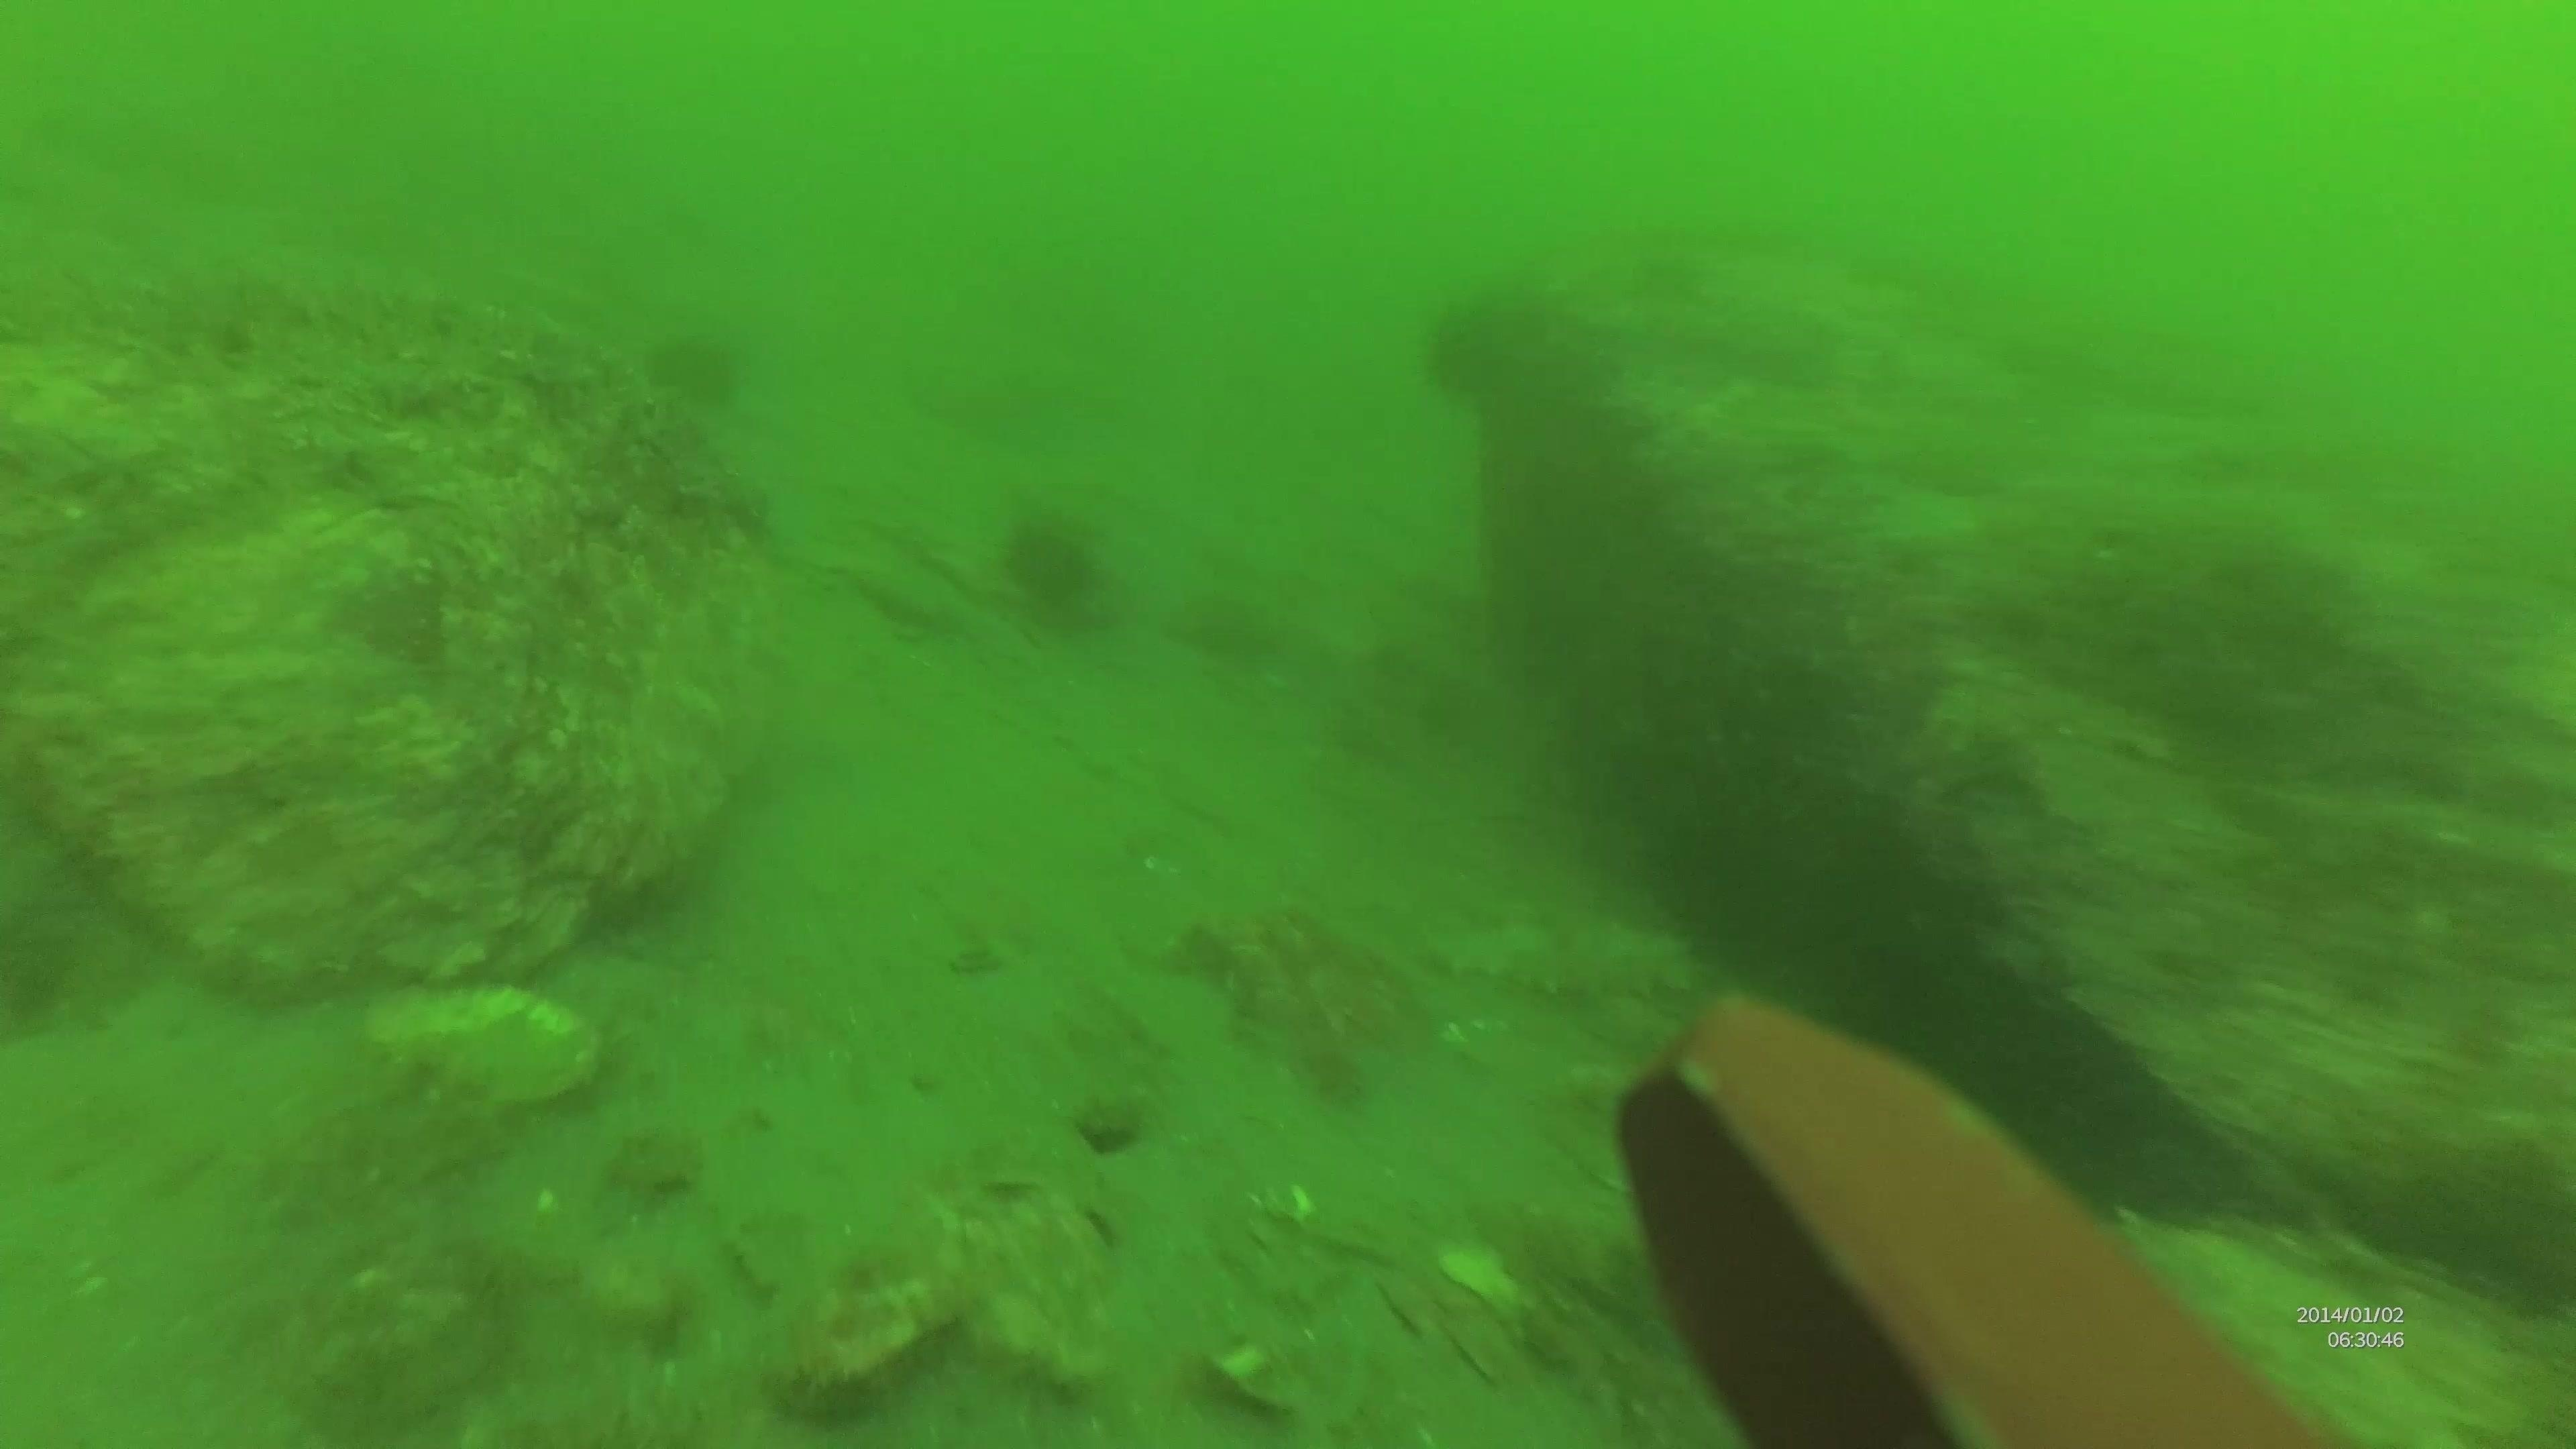echinus: (991, 501, 1115, 630), (640, 322, 750, 412)
holothurian: (1414, 901, 1706, 1017)
